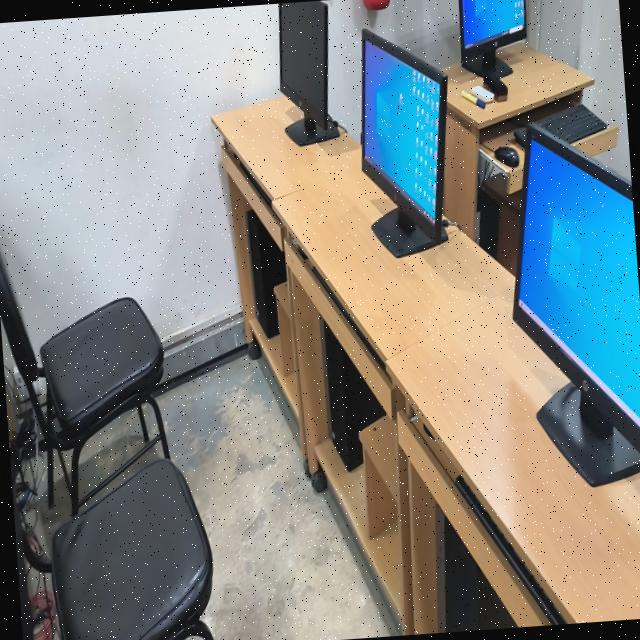Chair: (0, 253, 168, 515), (51, 458, 213, 640)
Cpu: (321, 321, 384, 469), (442, 516, 516, 632), (244, 209, 285, 336)
Fire Extinguisher: (361, 0, 388, 9)
Keyboard: (453, 474, 566, 625), (311, 265, 387, 374), (536, 103, 607, 143), (231, 151, 274, 215)
Monitor: (512, 123, 640, 484), (359, 28, 446, 256), (278, 0, 338, 142), (457, 0, 525, 96)
Mouse: (493, 145, 518, 166), (288, 233, 306, 259), (421, 423, 433, 439)
